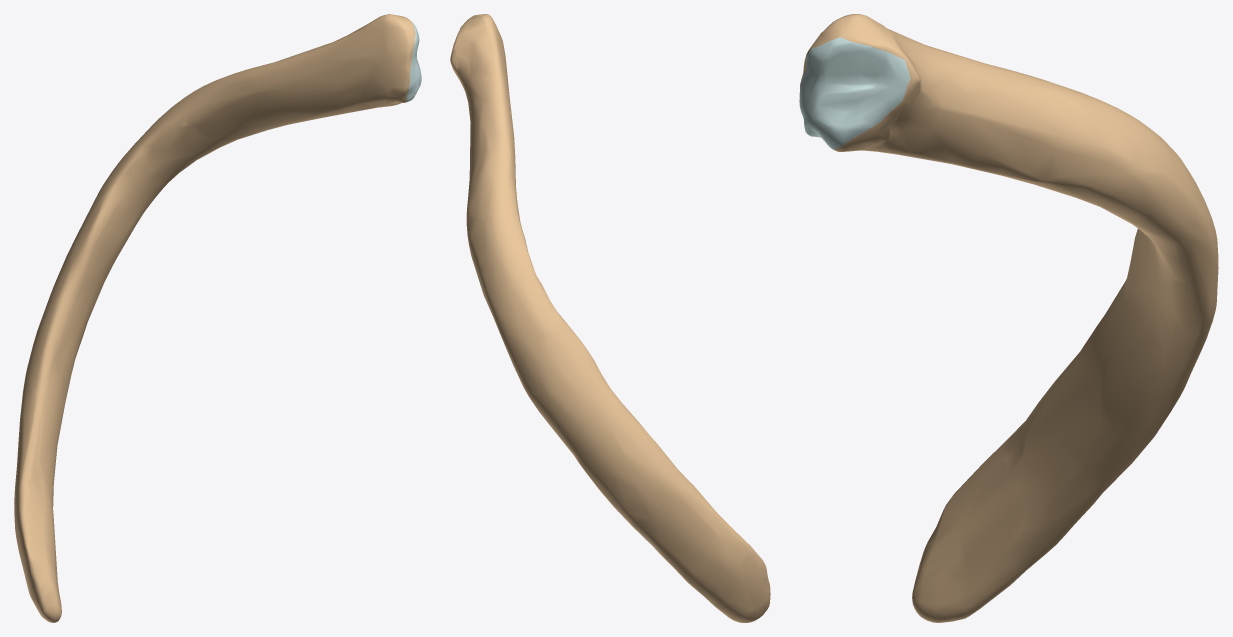
The model's file is 12th_rib.r_Generated_Mesh_From_X3D.895.glb.
3 views of the same model, side by side, from view 1: azimuth 30°, elevation 25°; view 2: azimuth 150°, elevation 25°; view 3: azimuth 270°, elevation 25° (orthographic). The views are drawn at different scales.
Visible parts, largest first — view 1: 12th_rib.r_Generated_Mesh_From_X3D.895; view 2: 12th_rib.r_Generated_Mesh_From_X3D.895; view 3: 12th_rib.r_Generated_Mesh_From_X3D.895.
Part boxes in pixels (bbox=[...]): 12th_rib.r_Generated_Mesh_From_X3D.895: bbox=[14, 14, 421, 622]; 12th_rib.r_Generated_Mesh_From_X3D.895: bbox=[450, 14, 770, 622]; 12th_rib.r_Generated_Mesh_From_X3D.895: bbox=[799, 14, 1218, 622].
Bounding box in the file's own units: 0.066 × 0.0979 × 0.0444.
